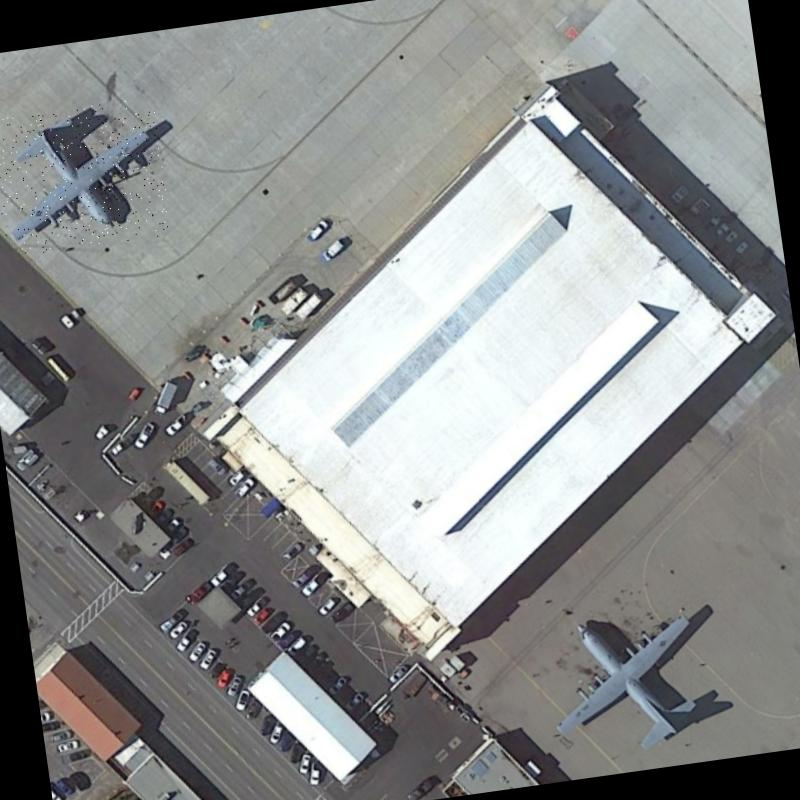A2: (534, 597, 717, 765), (0, 96, 173, 257)
